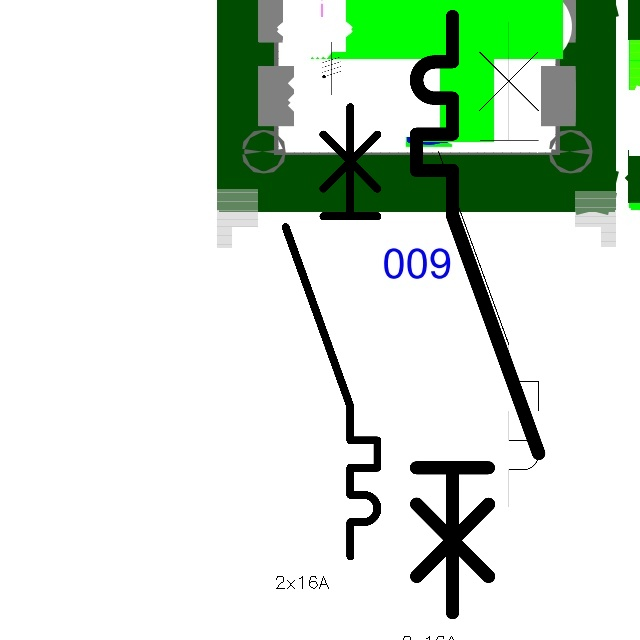interruptor_termomagnetico: (401, 1, 554, 628), (426, 10, 551, 519), (274, 95, 389, 567)
